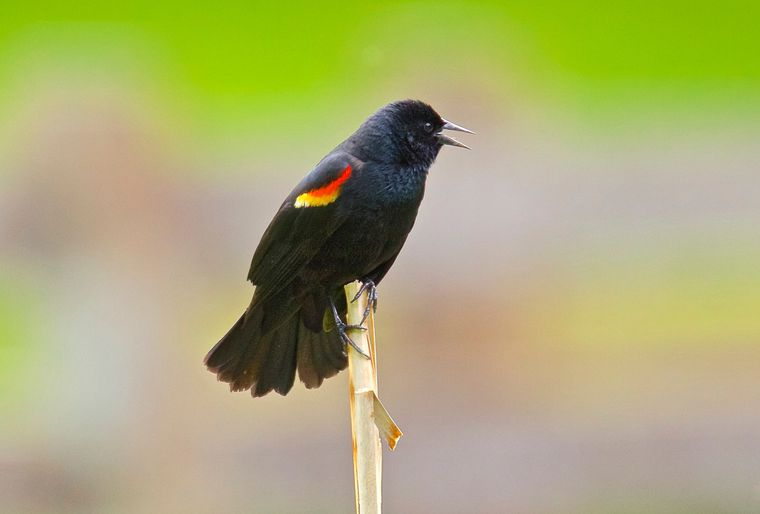bird: (244, 102, 444, 338)
